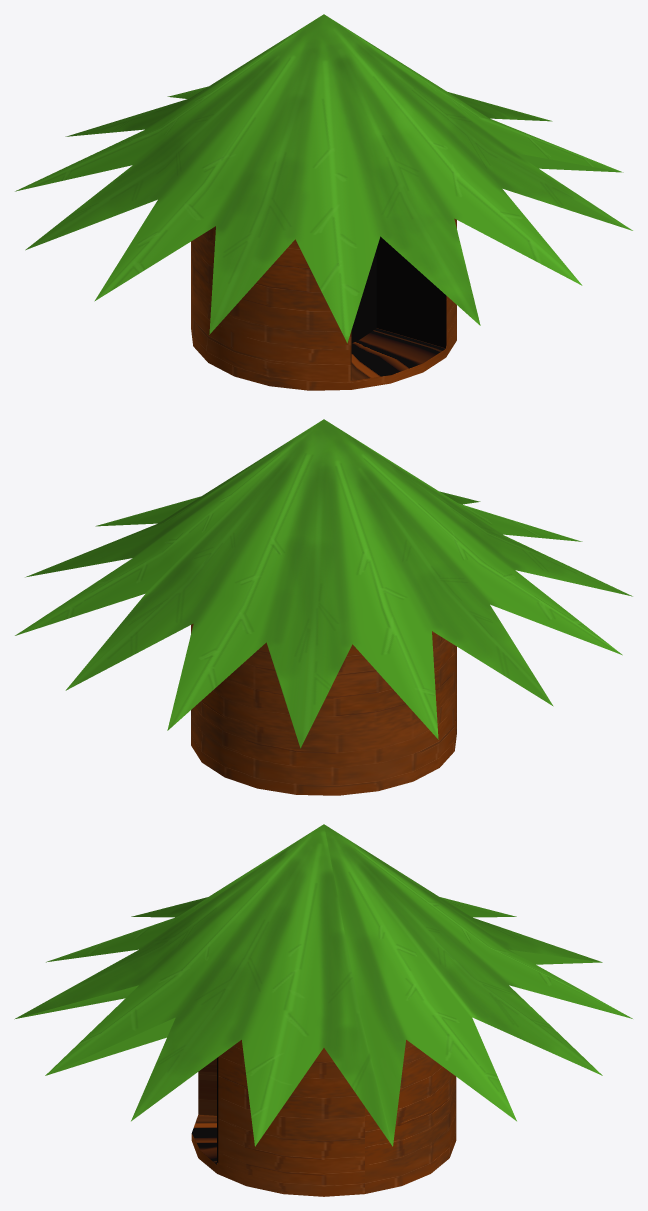
File: hut.fbx
The picture shows the model from 3 angles, top to bottom: view 1: azimuth 30°, elevation 25°; view 2: azimuth 150°, elevation 25°; view 3: azimuth 270°, elevation 25°; orthographic projection.
Visible parts, largest first — view 1: pCylinder2; view 2: pCylinder2; view 3: pCylinder2.
Boxes of the visible parts, left/top/right/bottom form: pCylinder2: left=15, top=14, right=632, bottom=390; pCylinder2: left=15, top=419, right=632, bottom=795; pCylinder2: left=14, top=824, right=632, bottom=1196.
Size of the model in its own units: 17.88 by 10.34 by 18.34.
